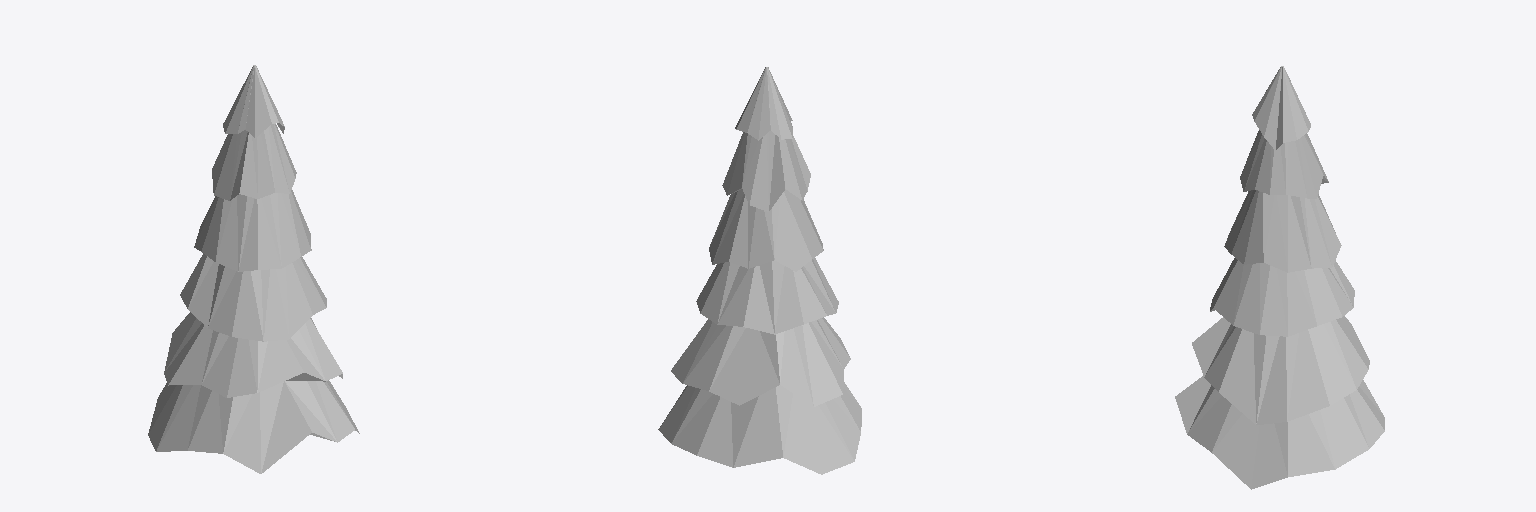
Rendered from Leef1.obj.
3 renders of one model, left to right at view 1: azimuth 30°, elevation 25°; view 2: azimuth 150°, elevation 25°; view 3: azimuth 270°, elevation 25°, orthographic.
Parts seen in each view (by area): view 1: tree1; view 2: tree1; view 3: tree1.
Boxes of the visible parts, x1,y1,x2,y2 form: tree1: [148, 65, 359, 473]; tree1: [658, 67, 861, 474]; tree1: [1175, 66, 1384, 489].
Bounding box in the file's own units: 3.53 × 6.85 × 3.44.